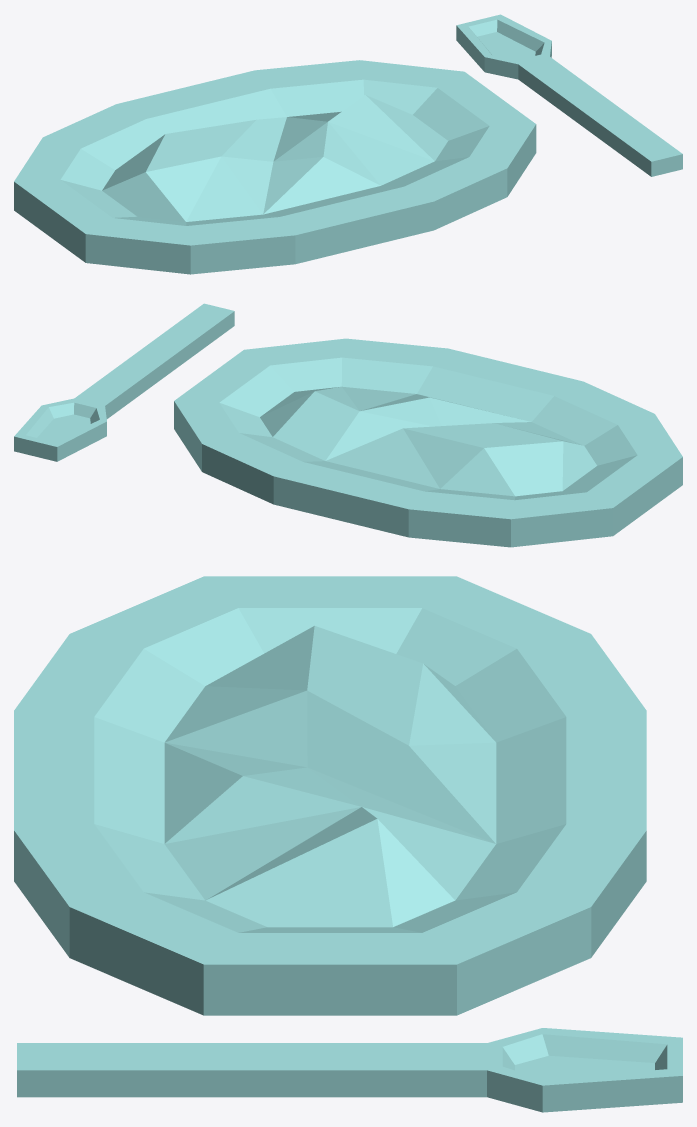
File: food.fbx
3 renders of one model, top to bottom at view 1: azimuth 30°, elevation 25°; view 2: azimuth 150°, elevation 25°; view 3: azimuth 270°, elevation 25°, orthographic. The views are drawn at different scales.
Visible parts, largest first — view 1: food; view 2: food; view 3: food.
Part boxes in pixels (box(x1,y1,x2,y2)): food: box(14, 14, 682, 274); food: box(14, 303, 682, 547); food: box(14, 576, 682, 1112).
Size of the model in its own units: 1.26 by 0.1128 by 0.7374.
